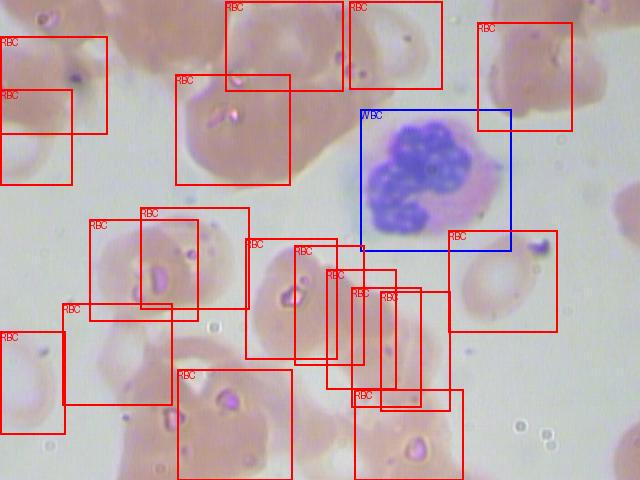RBC: (175, 74, 290, 185), (177, 369, 292, 480), (62, 303, 172, 405), (245, 238, 337, 359), (448, 230, 557, 332), (89, 219, 198, 321), (140, 207, 249, 309), (225, 1, 343, 91), (0, 36, 107, 134), (477, 22, 572, 131), (354, 389, 463, 480), (294, 245, 364, 365), (326, 269, 396, 389), (351, 287, 421, 407), (380, 291, 450, 411), (349, 1, 442, 89), (0, 89, 72, 185), (0, 331, 65, 434)
WBC: (360, 109, 511, 251)
